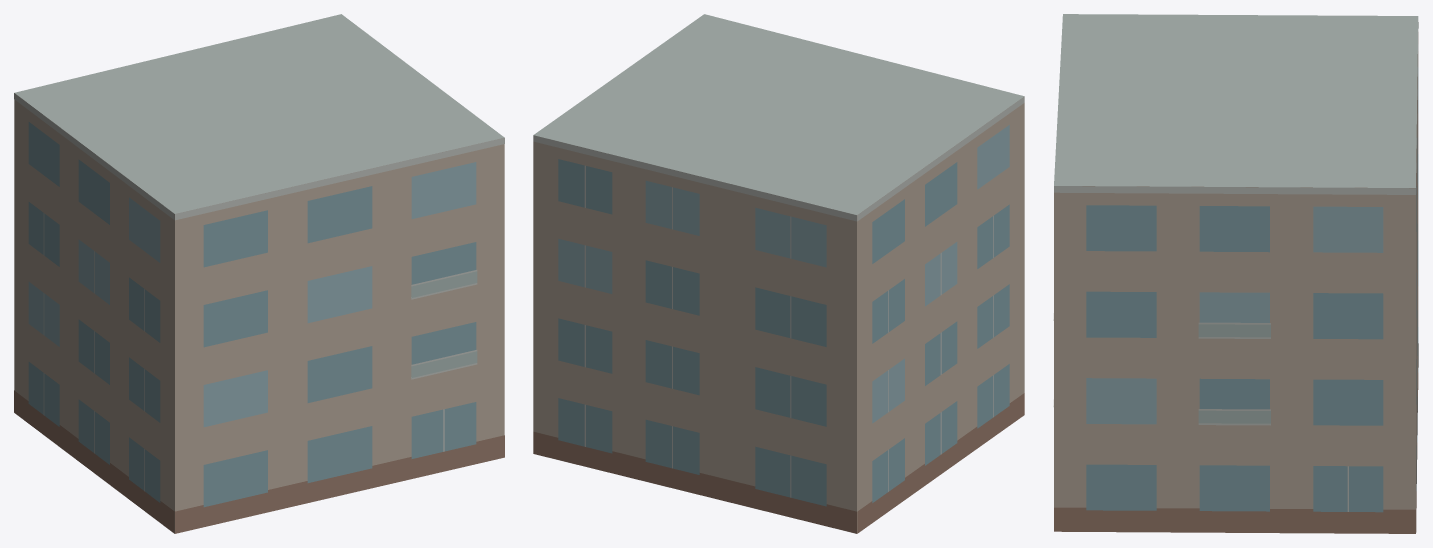
Rendered from residential-cd0cd84a-f712-49ef-ac7f-a9c4efbaabed.glb.
The picture shows the model from 3 angles, left to right: view 1: azimuth 30°, elevation 25°; view 2: azimuth 150°, elevation 25°; view 3: azimuth 270°, elevation 25°; orthographic projection. The views are drawn at different scales.
Parts seen in each view (by area): view 1: residential-cd0cd84a-f712-49ef-ac7f-a9c4efbaabed.tmp; view 2: residential-cd0cd84a-f712-49ef-ac7f-a9c4efbaabed.tmp; view 3: residential-cd0cd84a-f712-49ef-ac7f-a9c4efbaabed.tmp.
Part boxes in pixels (<box>): residential-cd0cd84a-f712-49ef-ac7f-a9c4efbaabed.tmp: <box>14,14,504,533</box>; residential-cd0cd84a-f712-49ef-ac7f-a9c4efbaabed.tmp: <box>533,14,1024,533</box>; residential-cd0cd84a-f712-49ef-ac7f-a9c4efbaabed.tmp: <box>1053,14,1418,533</box>.
Size of the model in its own units: 13.18 by 12.2 by 11.68.
